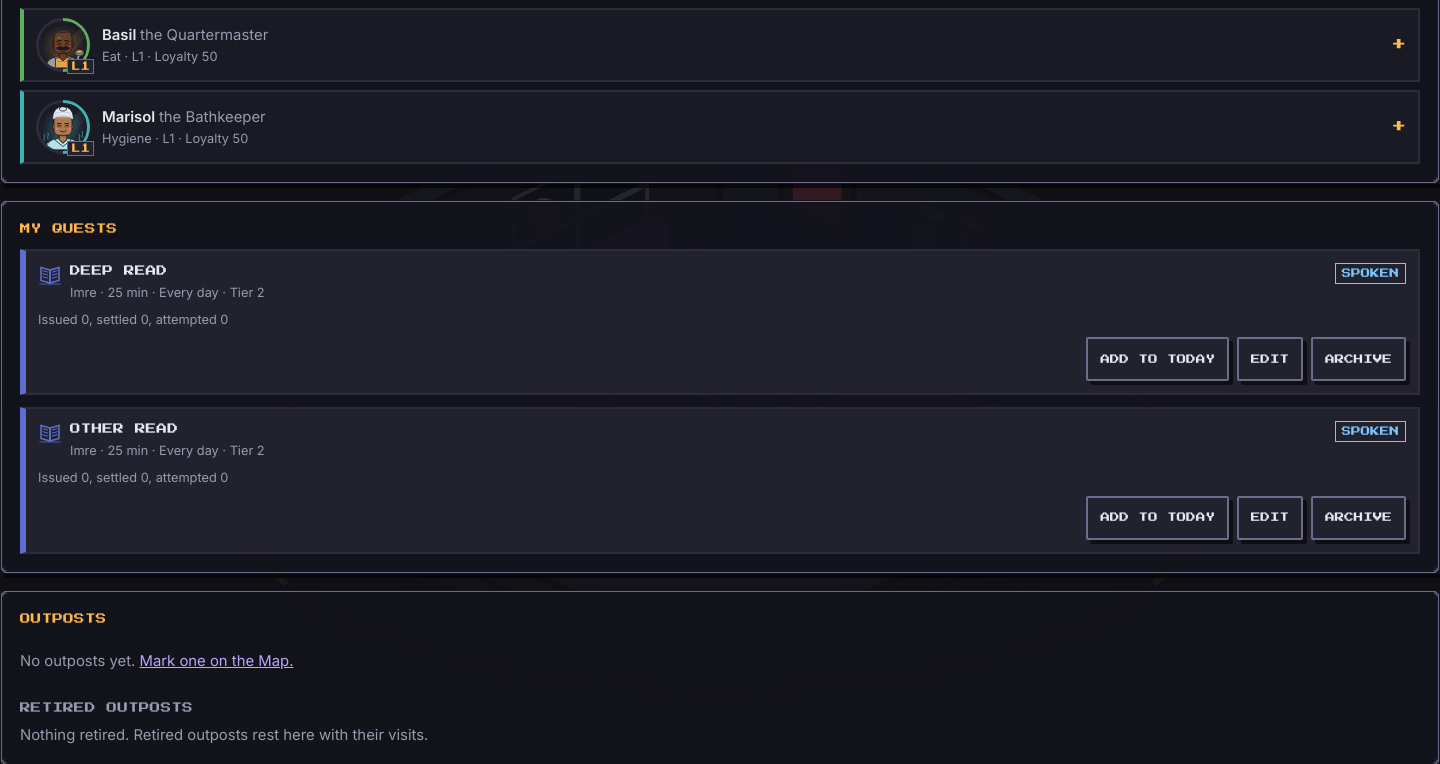
Ledger: editing a quest of your own › warns about a duplicate title at once, allows its own name, and cancel changes nothing
The width and height of the screenshot is (1440, 764).
(page scrolled)
Click the 1st button "Edit" at [1270, 359], box [1237,337,1303,381]
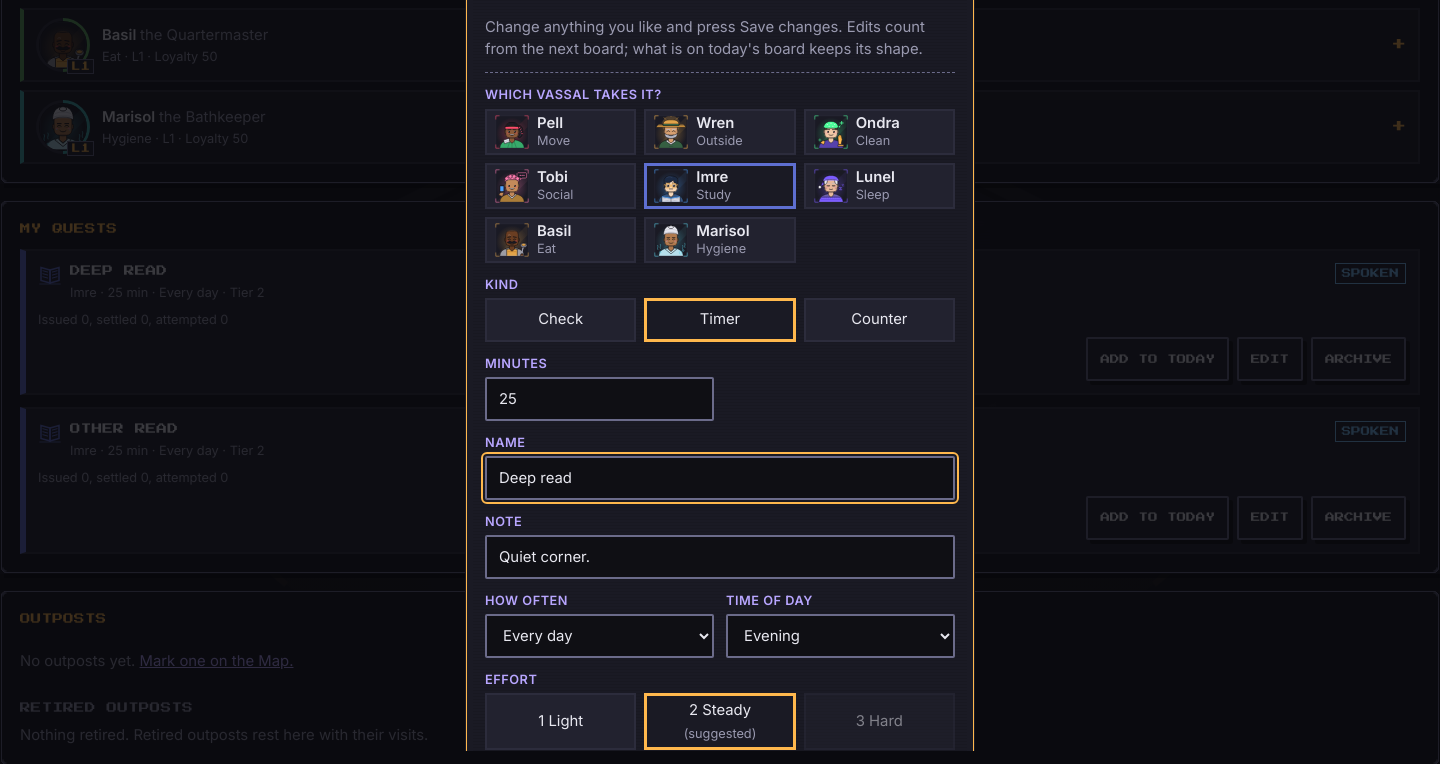
Replace the text in the field labelled "Name" with "other READ" at [720, 478], box [485,456,955,500]
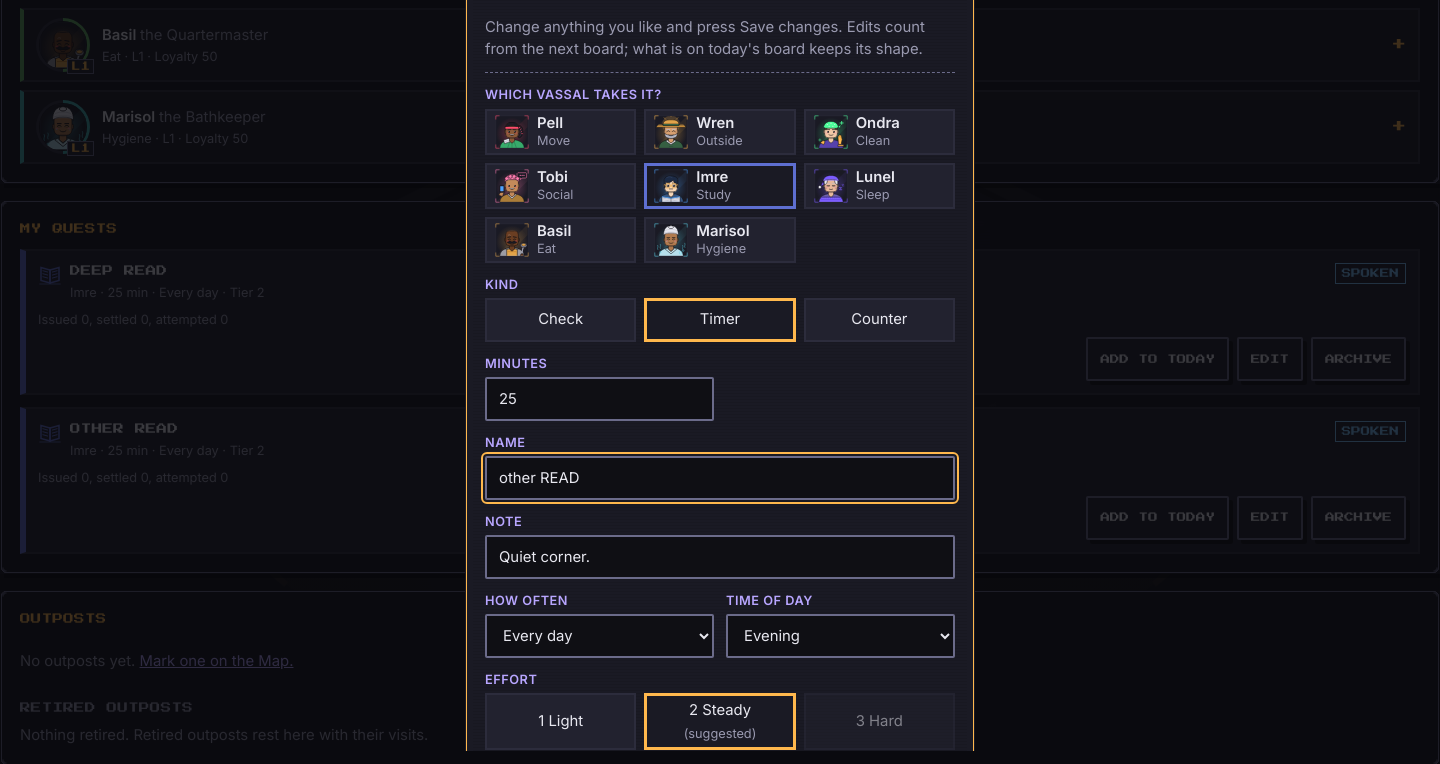
Click the radio button labelled "Wren Outside" at [720, 132], box [644,108,796,154]
(page scrolled)
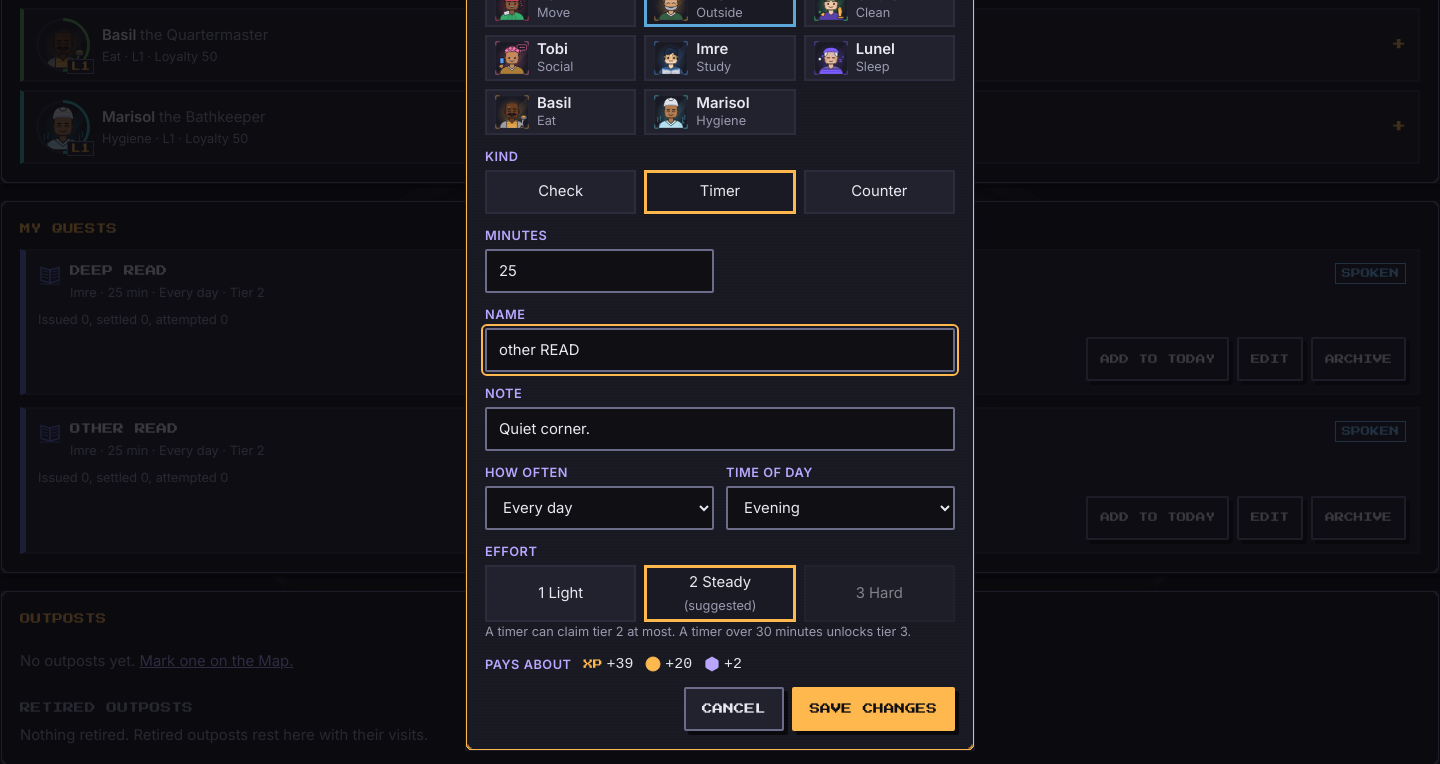
Now the button "Save changes" is enabled, box [792,687,955,731]
Click the button "Cancel" at [734, 709], box [684,687,784,731]
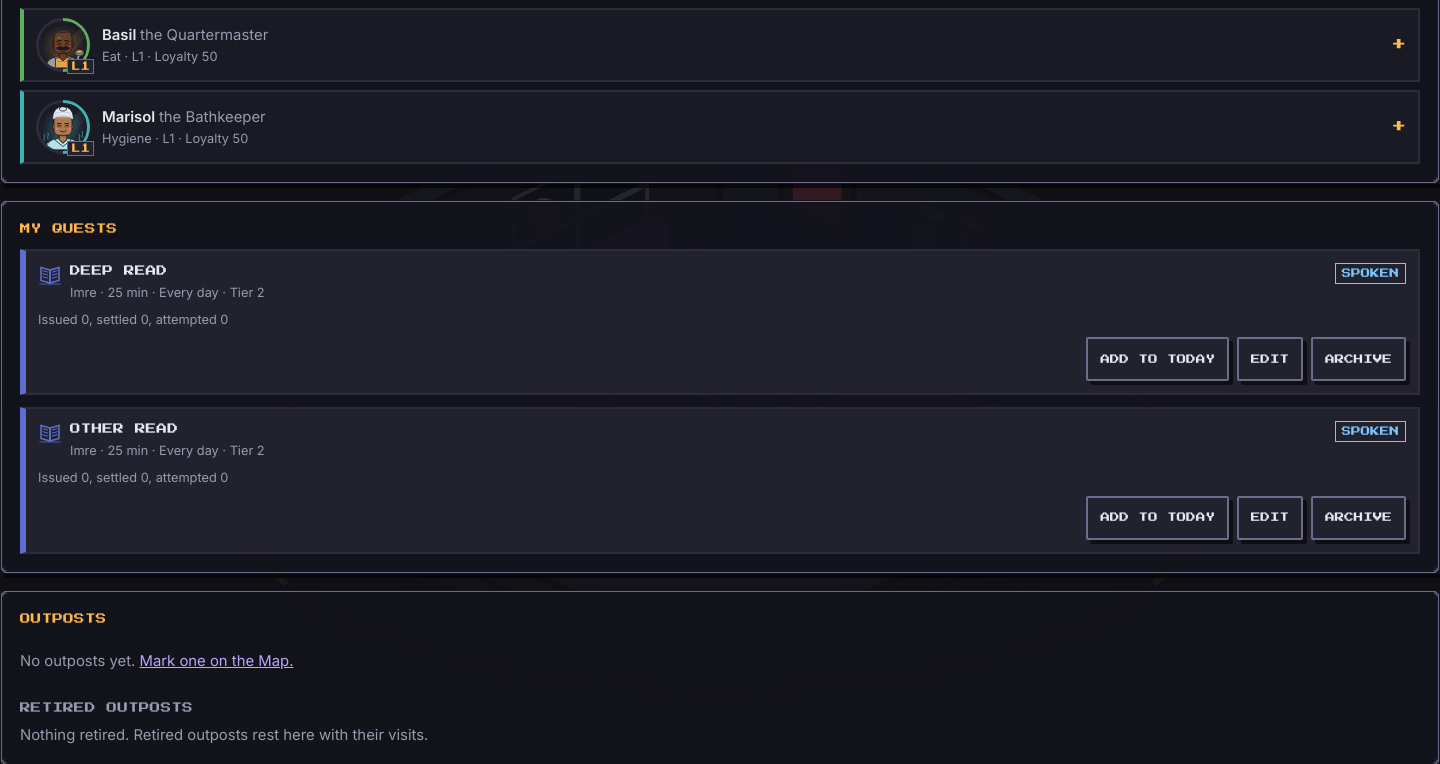
Click the 1st button "Edit" at [1270, 359], box [1237,337,1303,381]
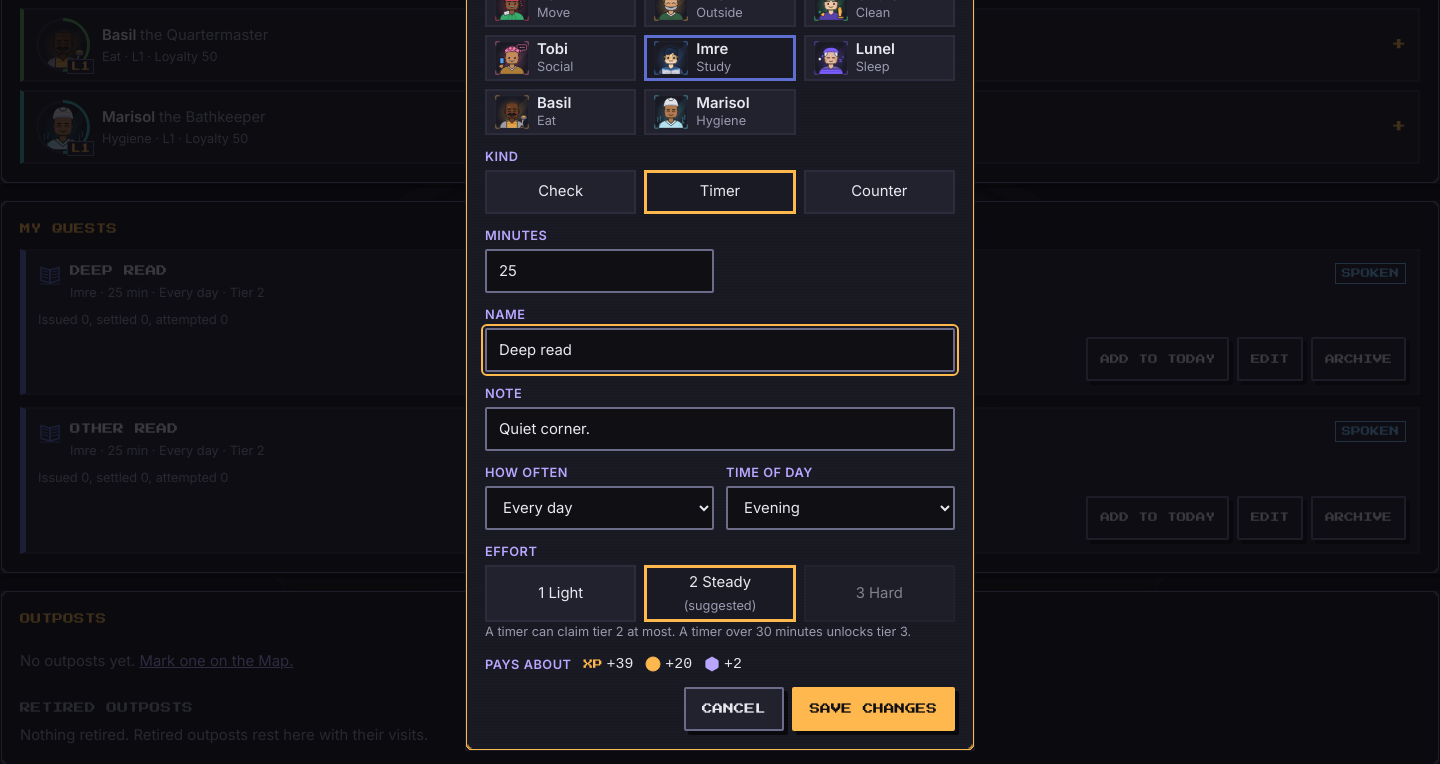
Now the field labelled "Name" holds "Deep read", box [485,328,955,372]
